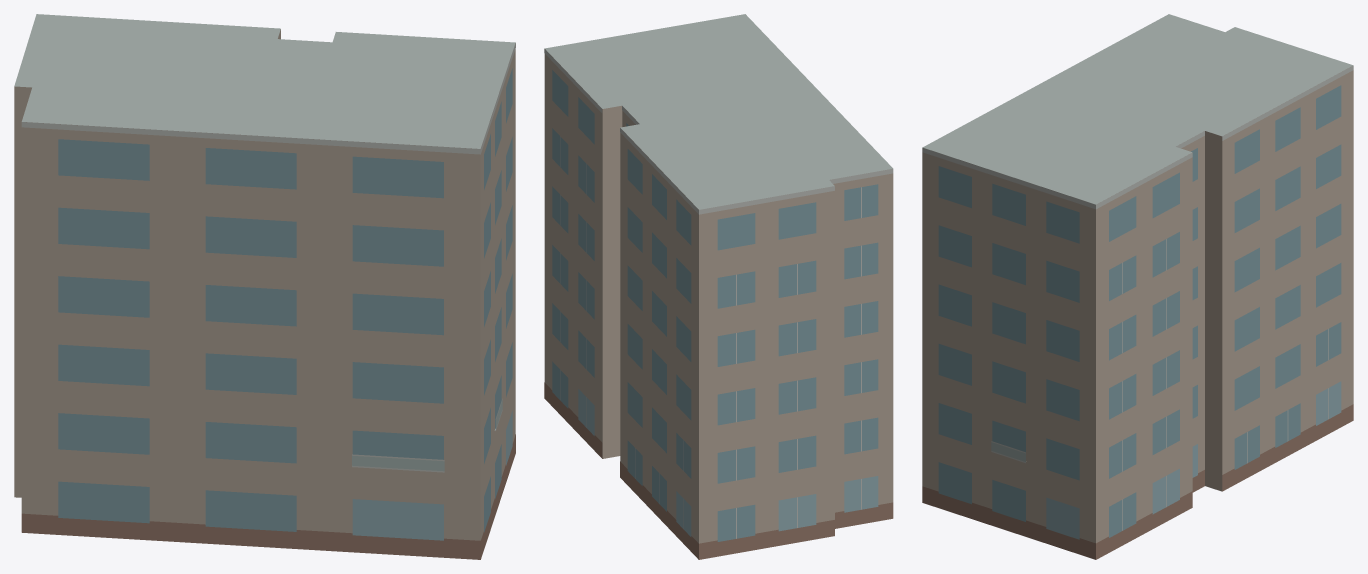
The model's file is survey-upis-32630794.glb.
The picture shows the model from 3 angles, left to right: view 1: azimuth 30°, elevation 25°; view 2: azimuth 150°, elevation 25°; view 3: azimuth 270°, elevation 25°; orthographic projection. The views are drawn at different scales.
Visible parts, largest first — view 1: survey-upis-32630794.tmp; view 2: survey-upis-32630794.tmp; view 3: survey-upis-32630794.tmp.
Part boxes in pixels (x1=…): survey-upis-32630794.tmp: x1=14, y1=14, x2=515, y2=559; survey-upis-32630794.tmp: x1=544, y1=14, x2=893, y2=559; survey-upis-32630794.tmp: x1=922, y1=14, x2=1353, y2=559.
Bounding box in the file's own units: 20.84 × 18.1 × 19.92.
